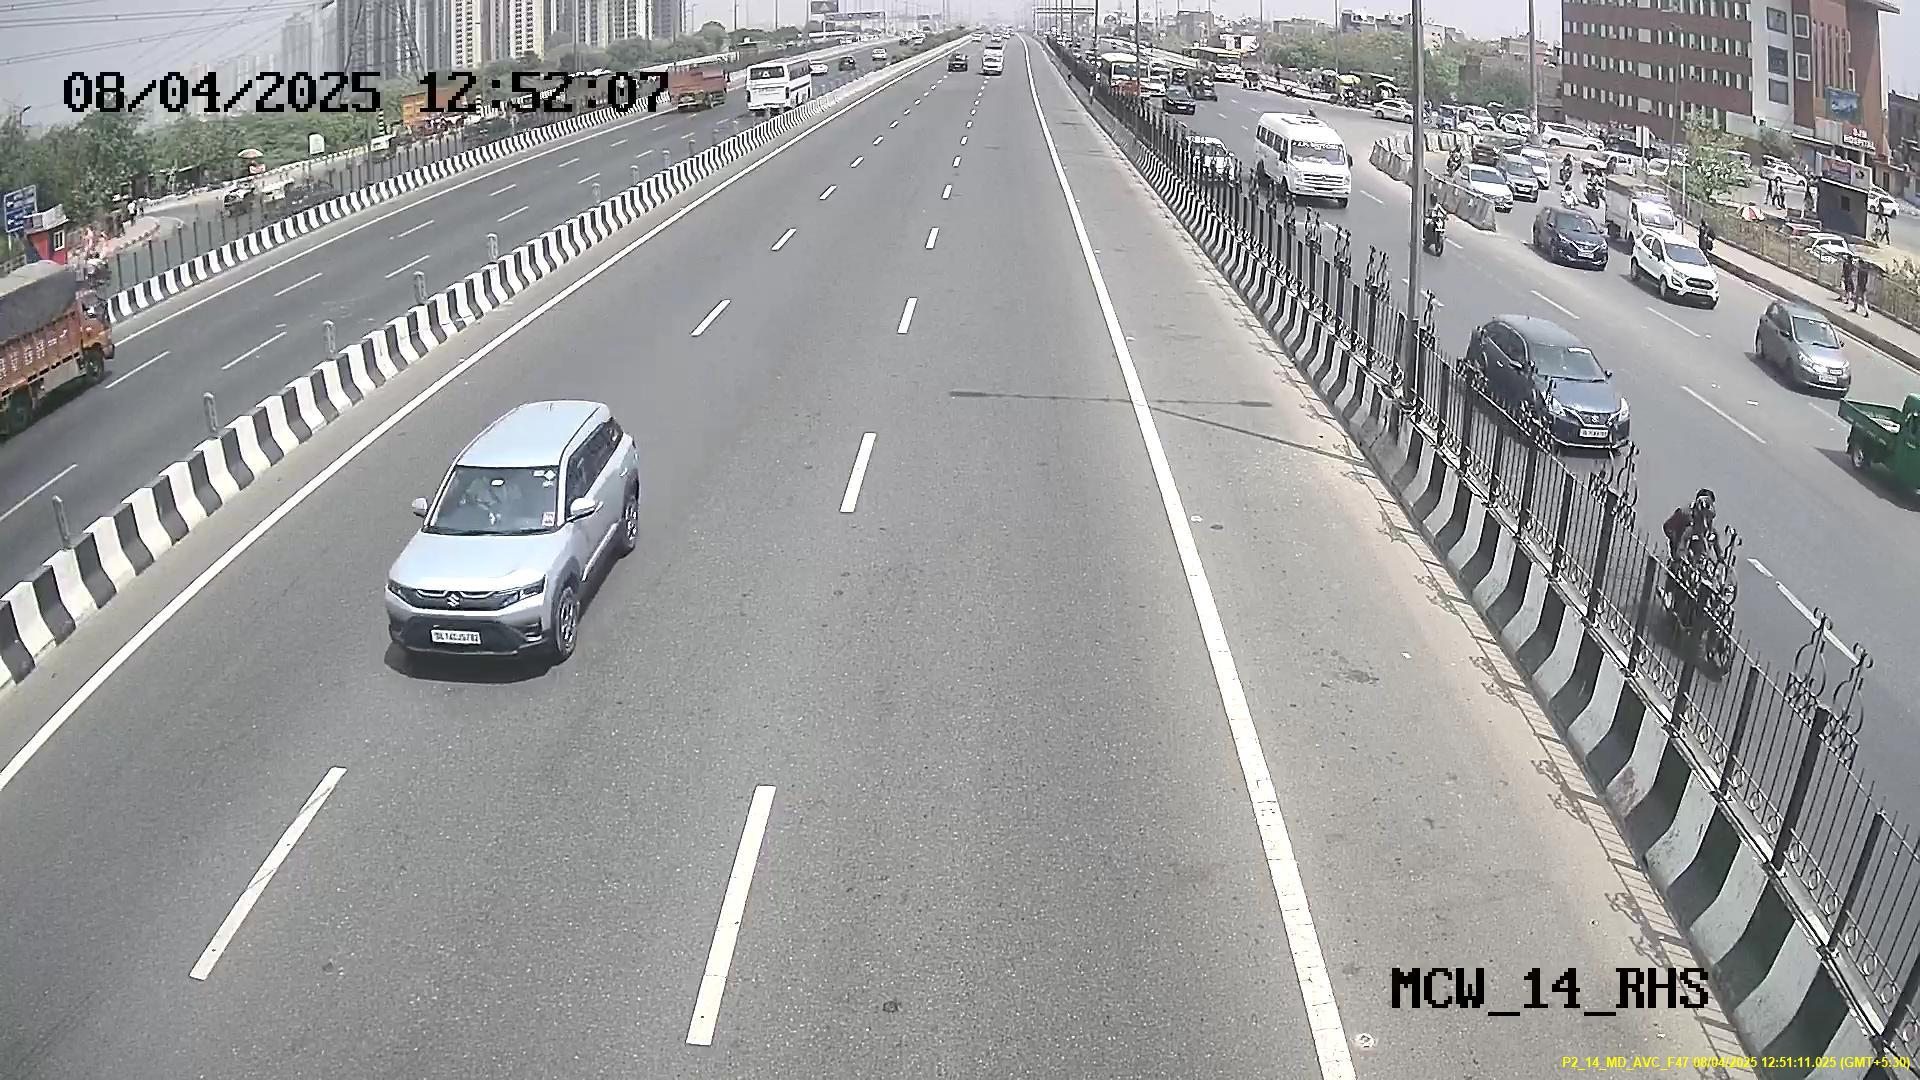car: (386, 431, 603, 667)
